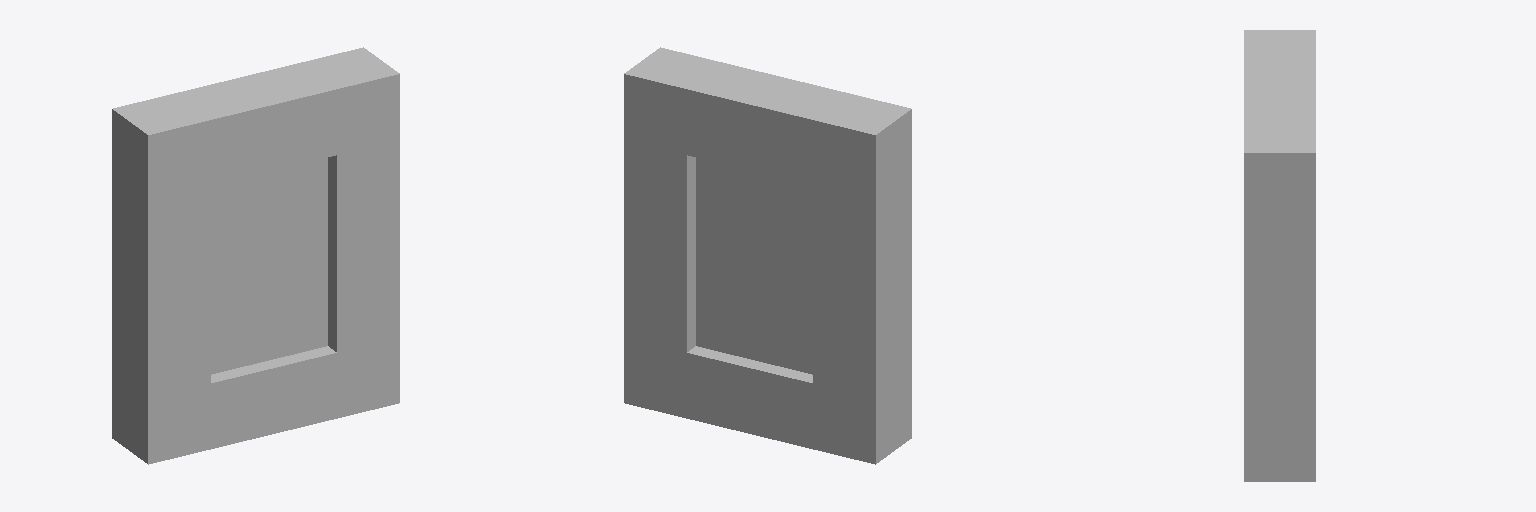
The model's file is portal_start_track.obj.
The picture shows the model from 3 angles: view 1: azimuth 30°, elevation 25°; view 2: azimuth 150°, elevation 25°; view 3: azimuth 270°, elevation 25°; orthographic projection.
Parts seen in each view (by area): view 1: cube; view 2: cube; view 3: cube.
Boxes of the visible parts, box(x1,y1,x2,y2) form: cube: box(112, 47, 399, 464); cube: box(624, 47, 911, 464); cube: box(1244, 30, 1315, 481).
Size of the model in its own units: 4 by 5 by 1.